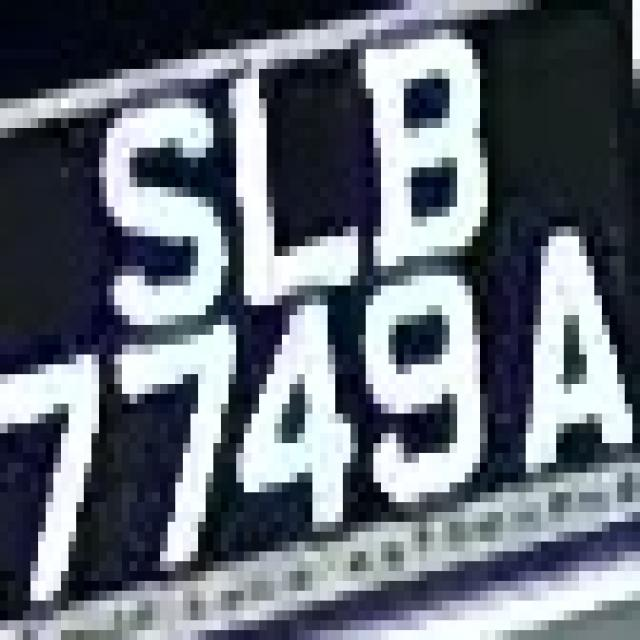4: (221, 276, 373, 542)
7: (99, 315, 251, 601), (8, 305, 106, 601)
9: (343, 246, 472, 532)
A: (480, 207, 640, 502)
B: (350, 30, 496, 256)
L: (206, 39, 358, 325)
S: (84, 69, 236, 345)
